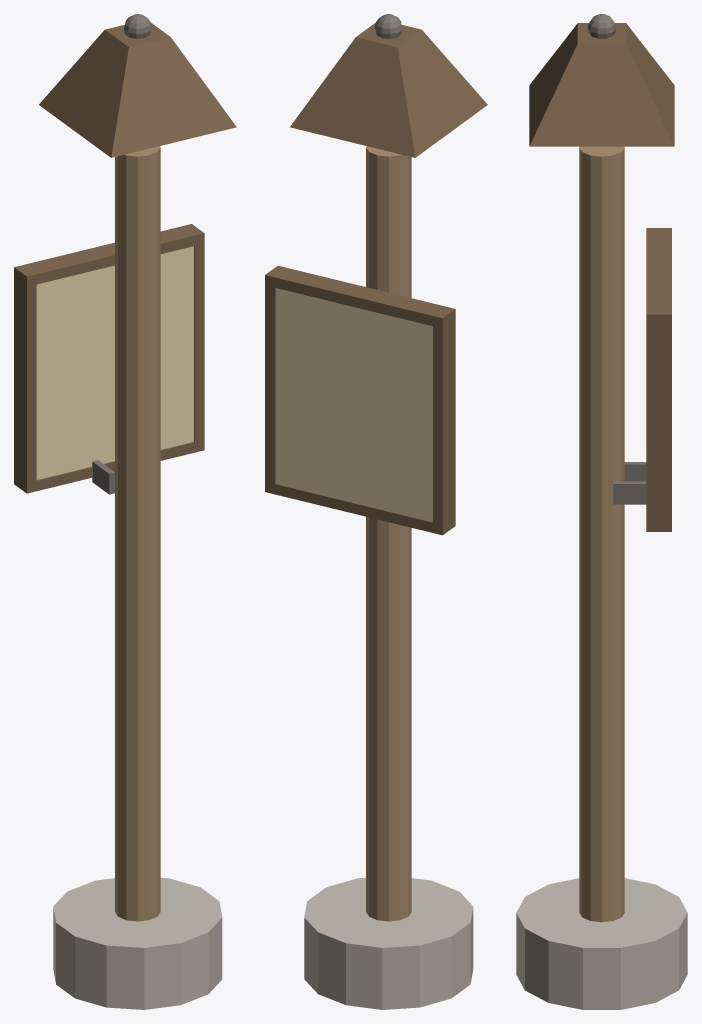
Rendered from signpost_v2.glb.
The picture shows the model from 3 angles, left to right: view 1: azimuth 30°, elevation 25°; view 2: azimuth 150°, elevation 25°; view 3: azimuth 270°, elevation 25°; orthographic projection.
Parts seen in each view (by area): view 1: signpost_v2; view 2: signpost_v2; view 3: signpost_v2.
Part boxes in pixels (x1=…): signpost_v2: x1=14, y1=14, x2=236, y2=1009; signpost_v2: x1=265, y1=14, x2=487, y2=1009; signpost_v2: x1=516, y1=14, x2=687, y2=1009.
Size of the model in its own units: 0.36 by 1.85 by 0.3.
